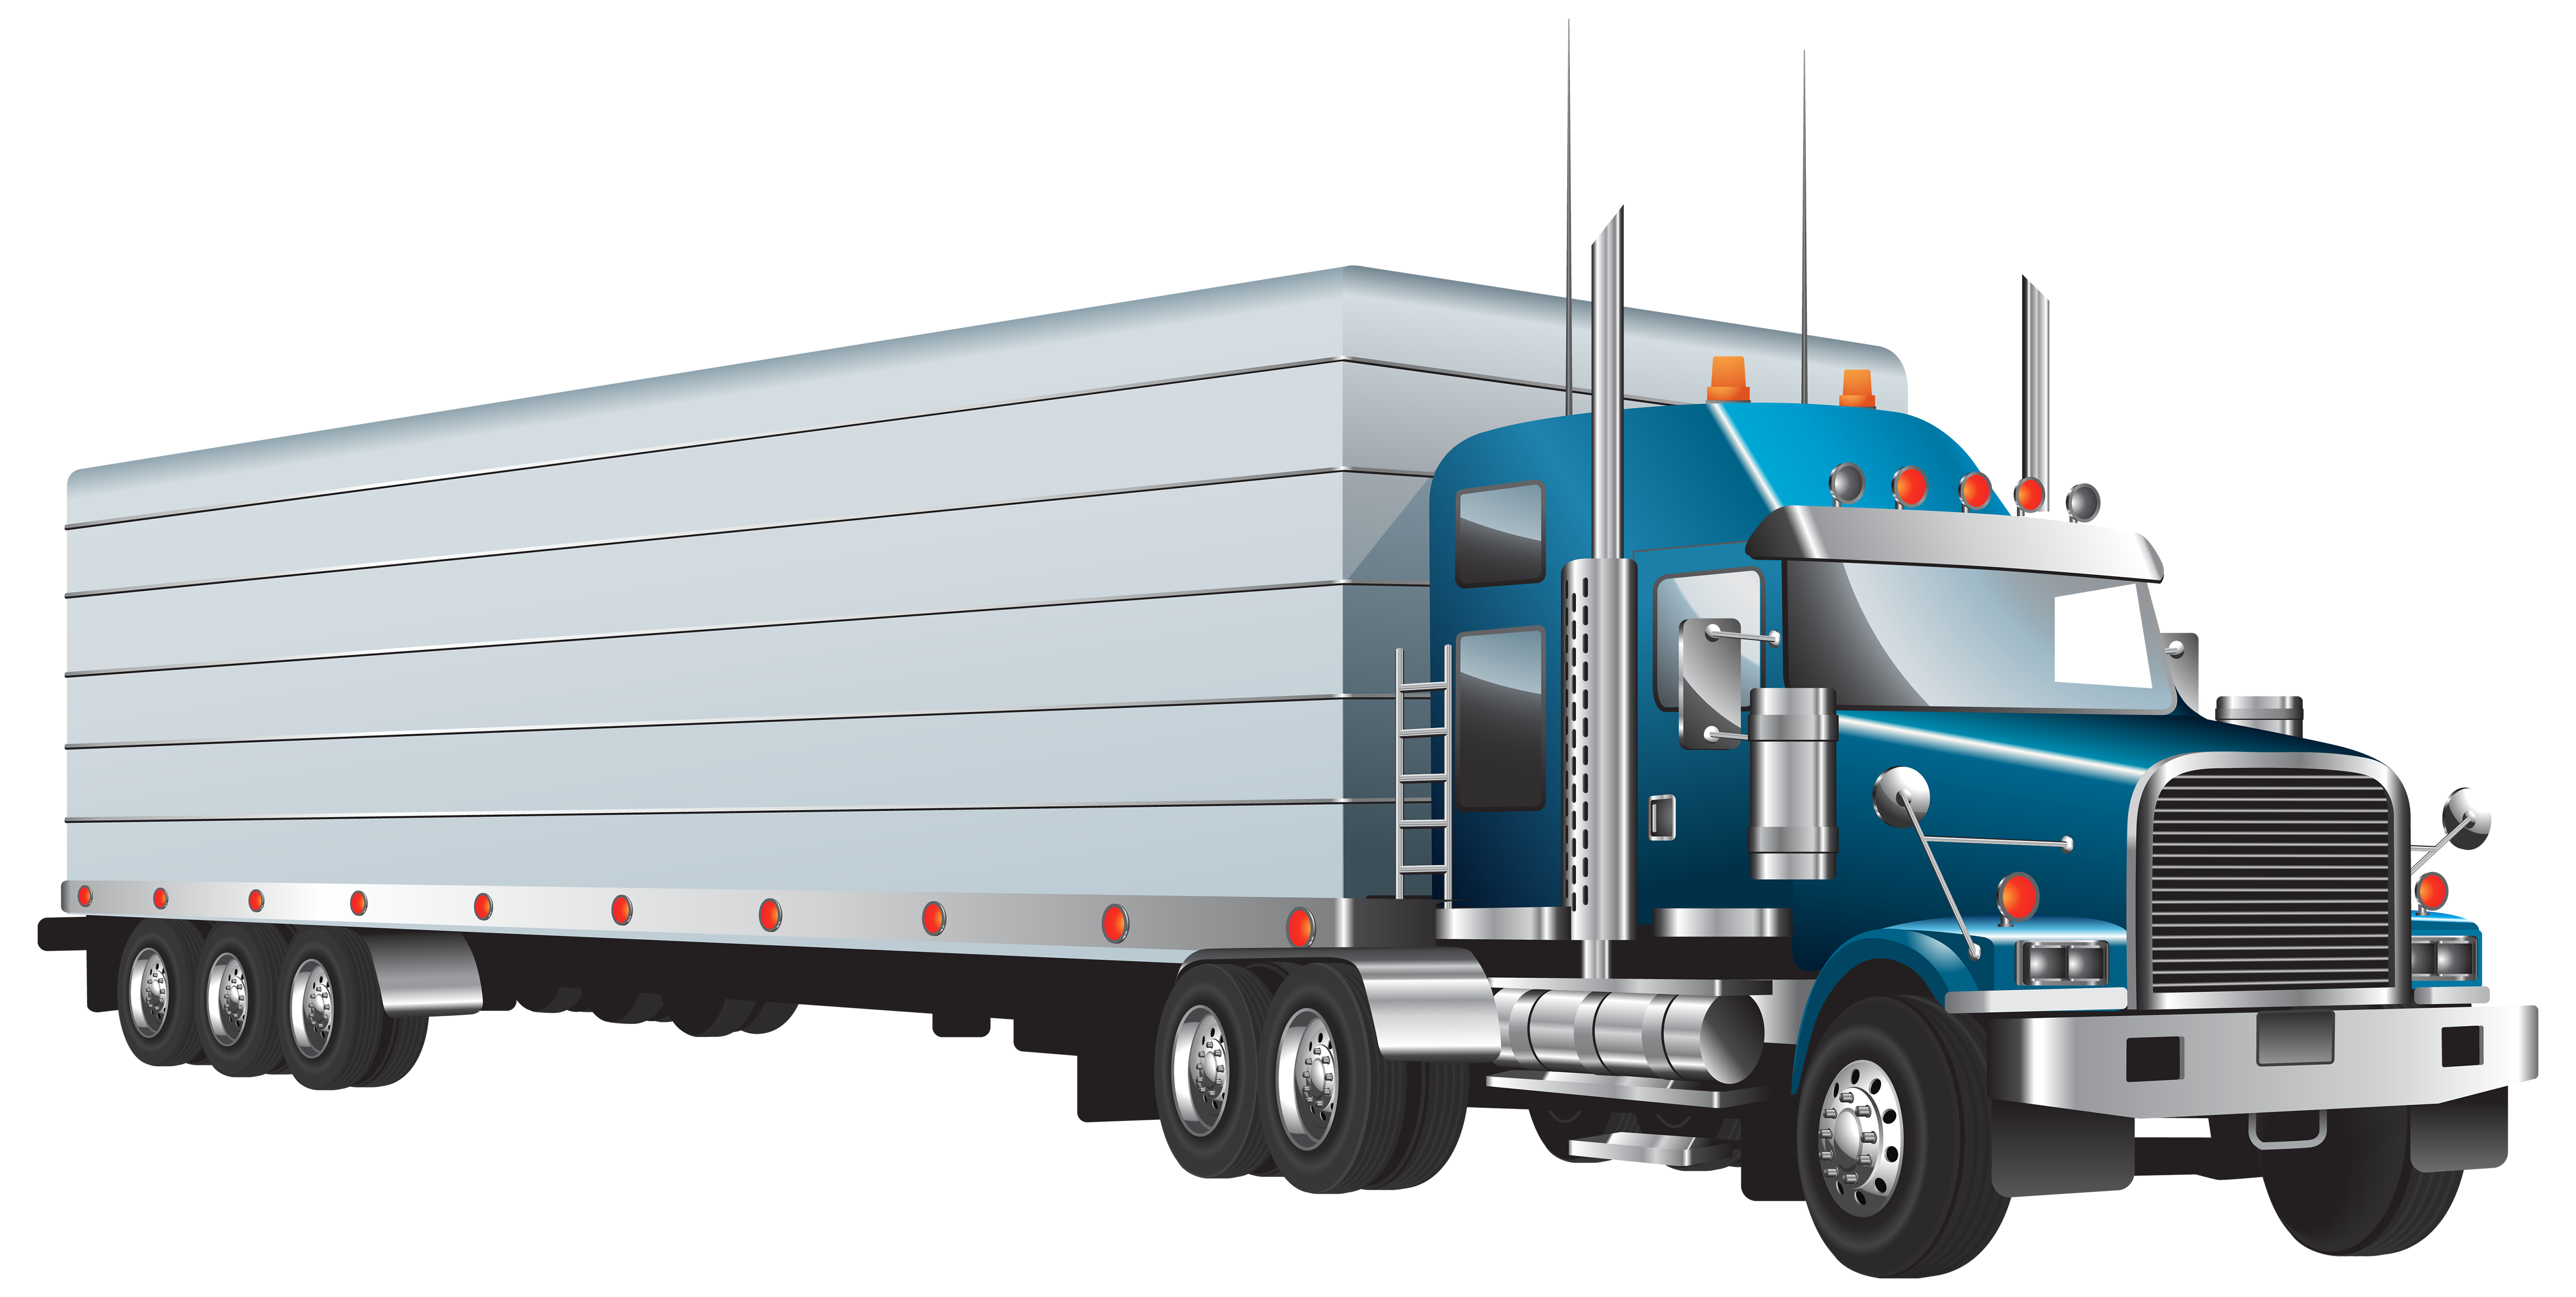truck: (8, 218, 2545, 1297)
